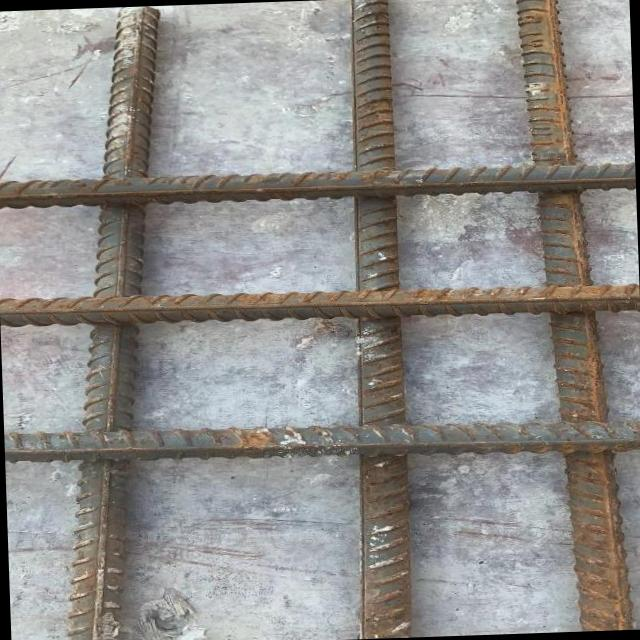ribbed bar: (46, 5, 186, 640), (515, 0, 636, 631), (337, 0, 413, 637), (4, 409, 640, 473), (0, 274, 640, 334), (0, 159, 636, 213)
